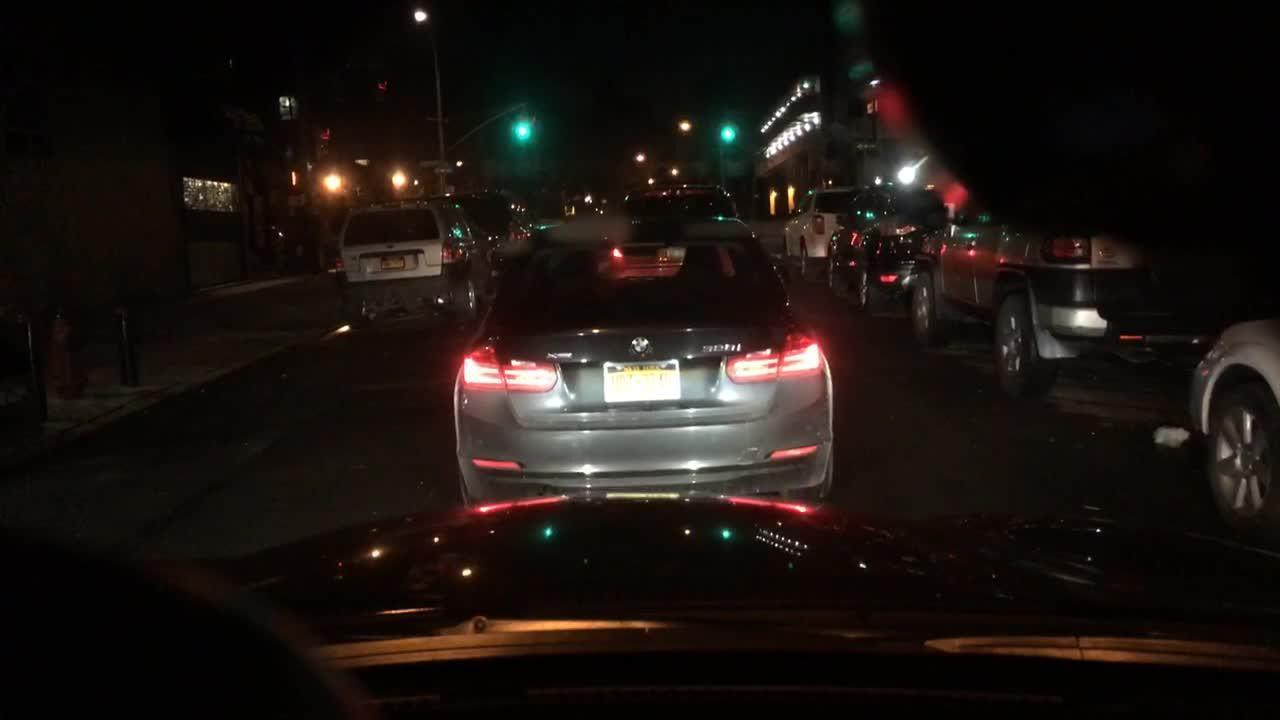bmw: (629, 334, 651, 357)
